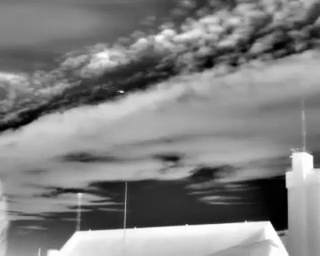BIRD: (115, 86, 127, 97)
